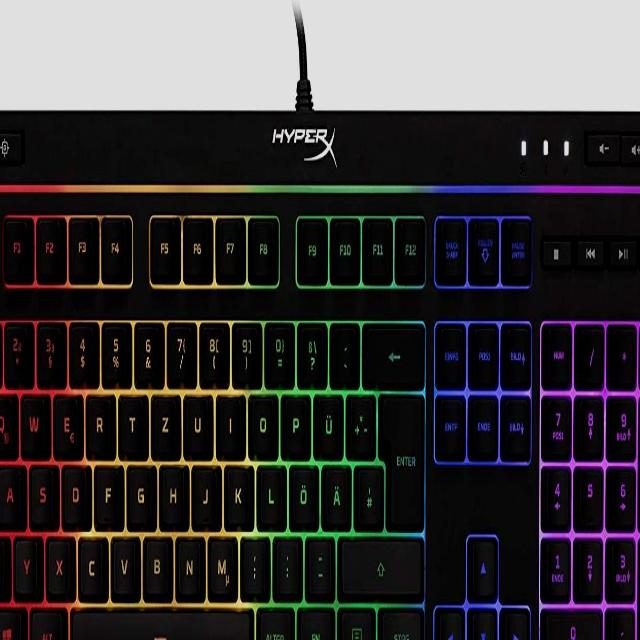0: (264, 317, 293, 380)
1: (0, 318, 12, 379)
2: (2, 317, 27, 379)
3: (35, 318, 60, 380)
4: (68, 316, 95, 379)
5: (100, 316, 128, 382)
6: (133, 317, 161, 380)
7: (166, 316, 193, 380)
8: (198, 316, 227, 383)
9: (231, 317, 260, 381)
a: (0, 459, 20, 522)
accent: (330, 318, 356, 381)
ae: (321, 459, 348, 524)
alt-left: (28, 602, 63, 640)
altgr-right: (255, 602, 291, 640)
b: (141, 531, 170, 593)
c: (77, 531, 104, 594)
caret: (0, 318, 12, 378)
comma: (239, 530, 267, 593)
d: (61, 459, 87, 522)
del: (363, 319, 422, 383)
e: (52, 388, 78, 452)
enter: (379, 386, 422, 525)
f: (93, 459, 119, 522)
g: (125, 459, 152, 522)
h: (158, 459, 185, 522)
hash: (354, 459, 381, 524)
i: (216, 388, 243, 450)
j: (191, 459, 217, 522)
k: (223, 459, 250, 523)
keyboard: (0, 171, 640, 640)
l: (256, 459, 283, 523)
less: (0, 531, 13, 592)
m: (206, 530, 236, 596)
minus: (305, 531, 331, 593)
n: (175, 530, 203, 594)
o: (247, 389, 275, 453)
oe: (288, 459, 315, 524)
p: (281, 389, 309, 452)
plus: (346, 388, 372, 452)
point: (273, 531, 299, 592)
q: (0, 388, 13, 452)
r: (85, 388, 113, 452)
s: (28, 459, 53, 522)
shift-left: (0, 532, 16, 592)
shift-lock: (0, 460, 25, 523)
shift-right: (339, 532, 421, 594)
space: (69, 601, 252, 640)
ss: (296, 318, 325, 382)
strg-left: (0, 601, 21, 640)
strg-right: (378, 602, 422, 640)
t: (118, 388, 144, 450)
tab: (0, 389, 21, 451)
u: (182, 388, 210, 453)
ue: (313, 389, 341, 454)
v: (110, 530, 137, 592)
w: (20, 388, 45, 450)
x: (45, 531, 71, 592)
y: (13, 531, 37, 592)
z: (150, 388, 178, 453)
